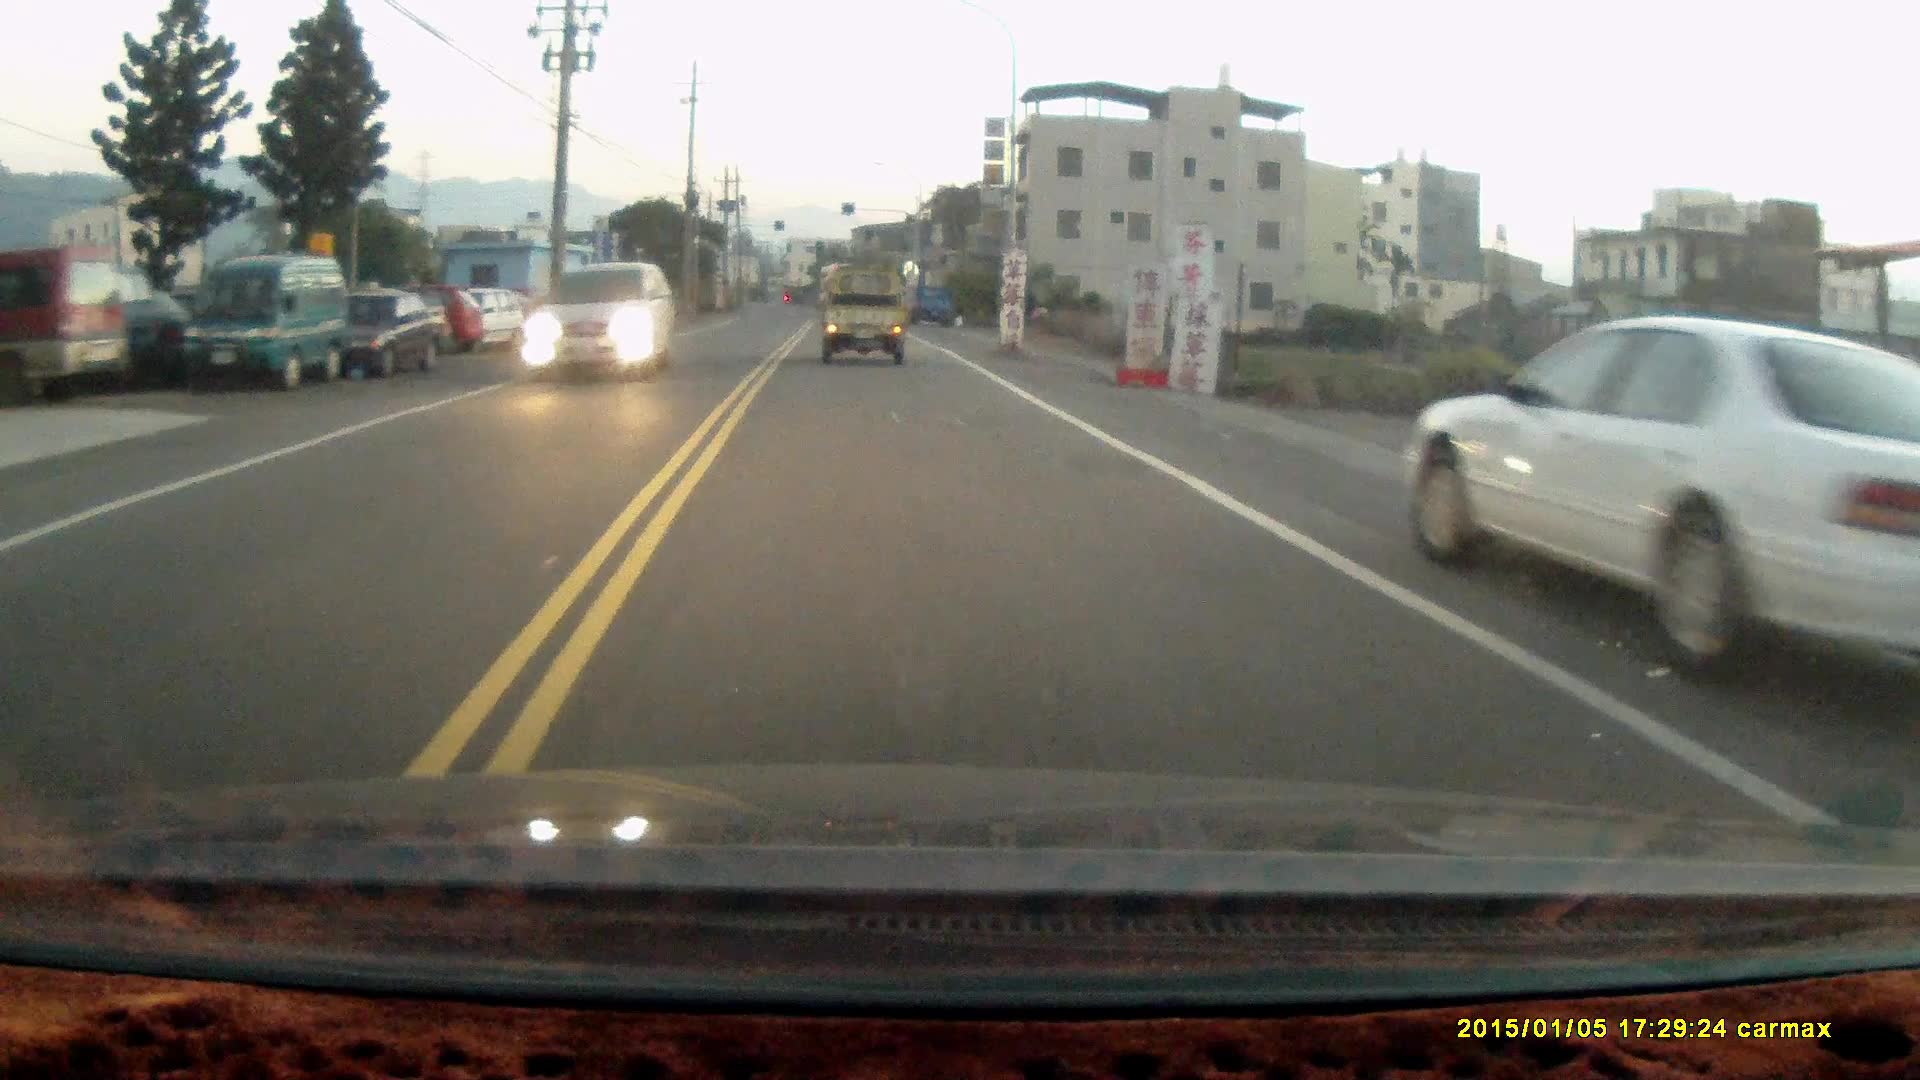vehicle: (1407, 315, 1920, 657), (183, 258, 352, 392), (517, 261, 675, 386), (1, 247, 131, 396), (349, 291, 455, 385), (820, 277, 913, 373)
